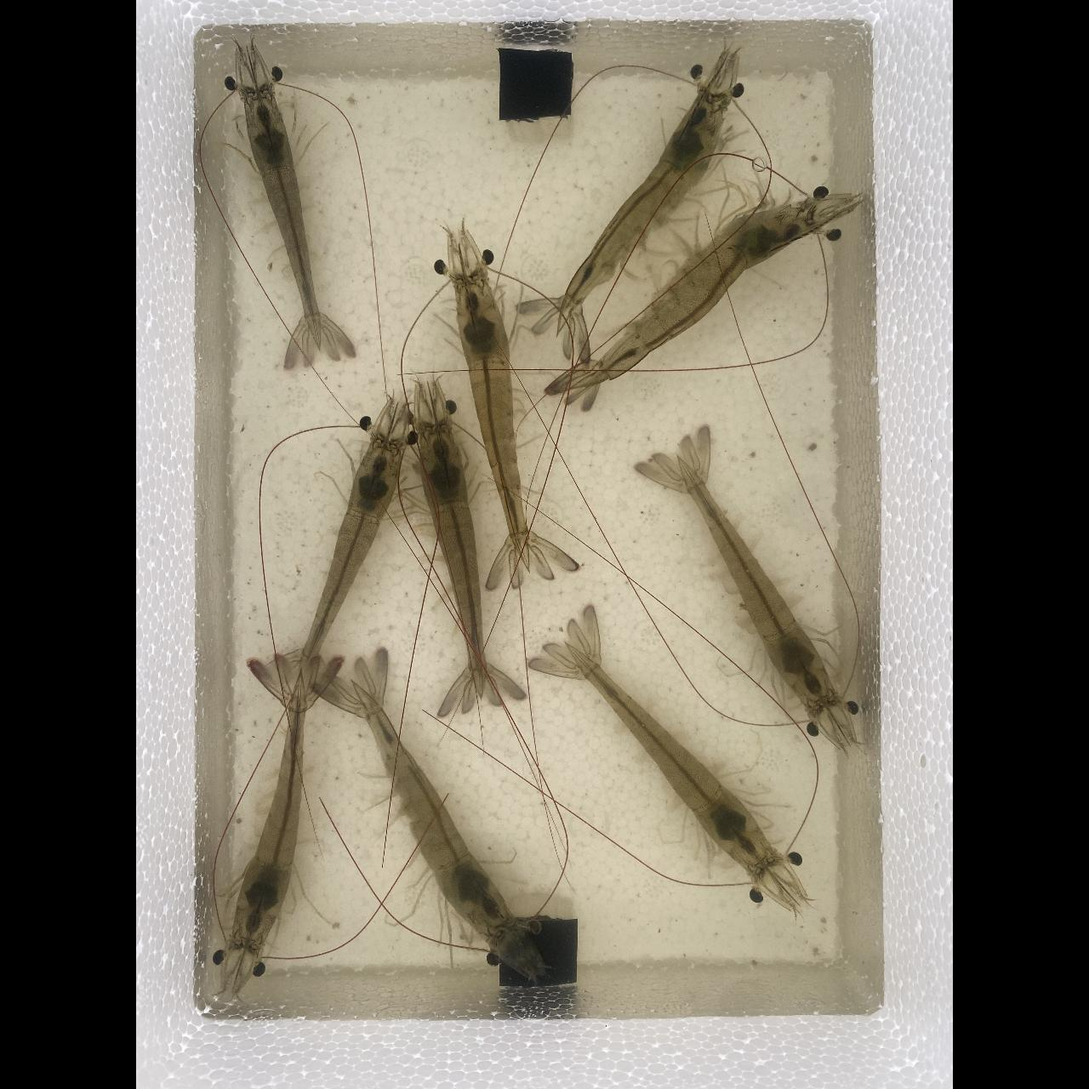box: (499, 917, 578, 988), (499, 49, 572, 119)
top_shrimp: (568, 648, 773, 873), (575, 206, 810, 388), (357, 686, 517, 944), (560, 97, 727, 322), (684, 470, 835, 708), (305, 442, 402, 672), (458, 279, 527, 563), (233, 677, 303, 949), (417, 425, 485, 694), (247, 94, 320, 342)
